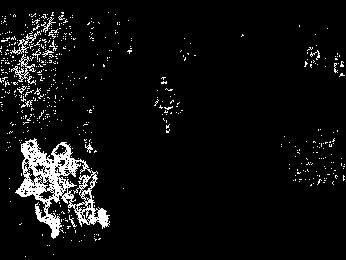person: (15, 139, 78, 241), (48, 140, 111, 229), (152, 74, 183, 136)
